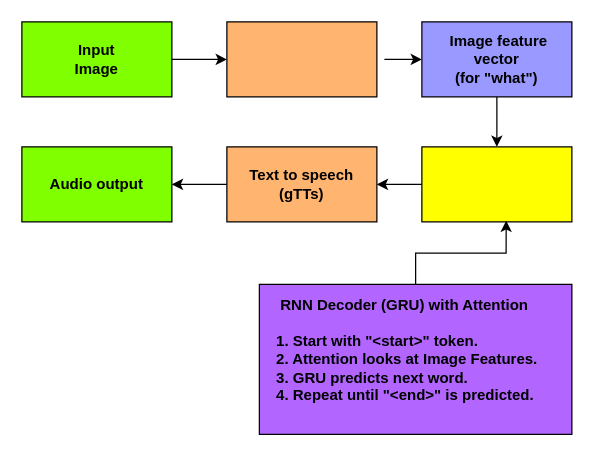
The diagram is 594 pixels wide and 456 high, and some of its shapes have lost their labels. The shapes that lost their labels are listed below. From the top down, each one's box as (x1, y1, x2, y2) in pixels, then its label:
(226, 21, 377, 97): CNN(IncerptionV3) Feature extractor
(421, 146, 572, 222): A generated caption (" A dog on grass")
